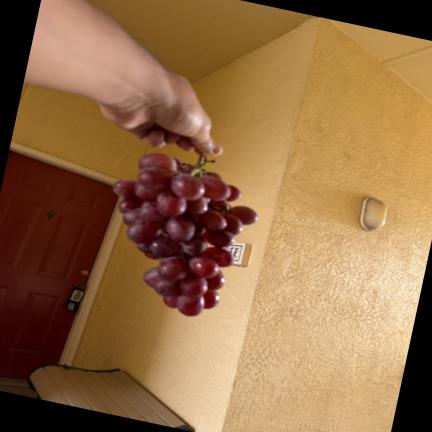grape_cluster: (113, 154, 258, 316)
